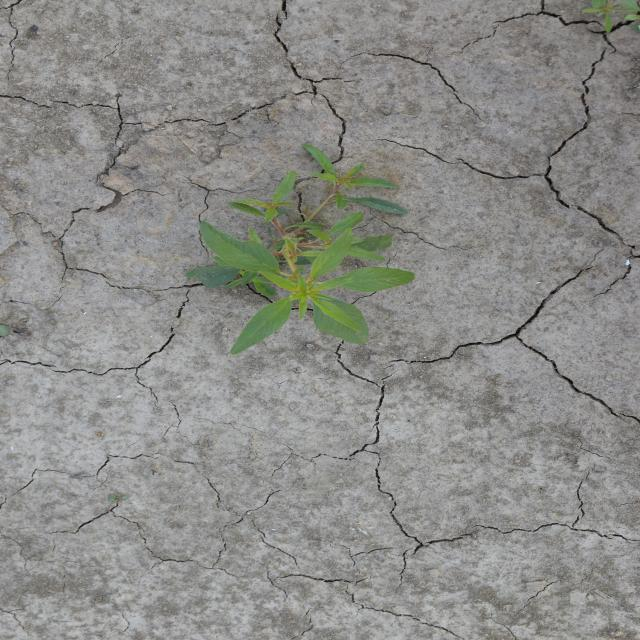Waterhemp: (182, 142, 418, 356)
